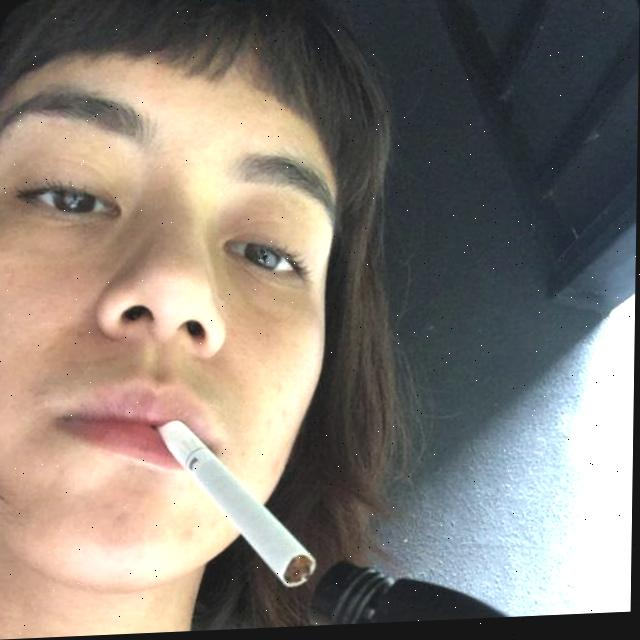cigarette: (156, 416, 320, 595)
